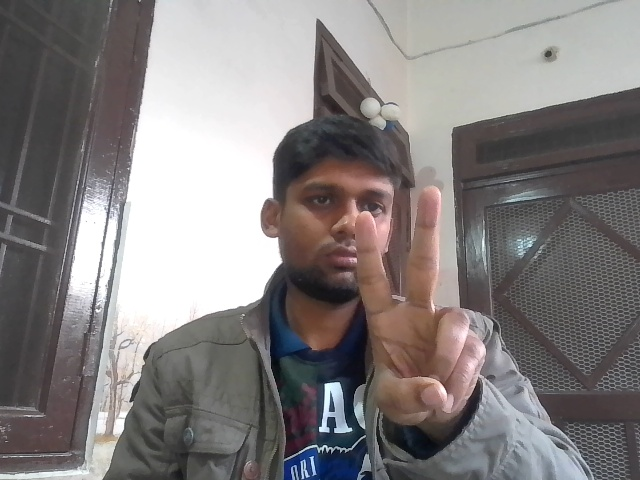Enjoy: (353, 181, 487, 427)
